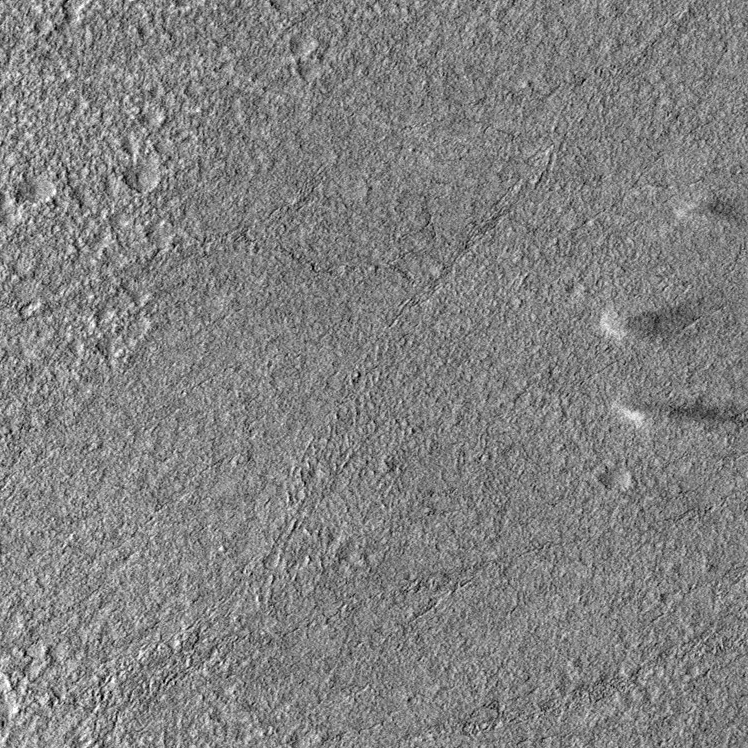dust_devil: (613, 396, 748, 432), (596, 303, 701, 345), (671, 194, 748, 236)
